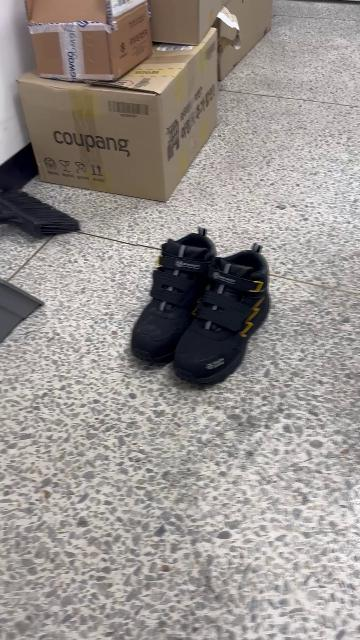shoe_worn: (168, 245, 274, 389), (128, 226, 221, 367)
